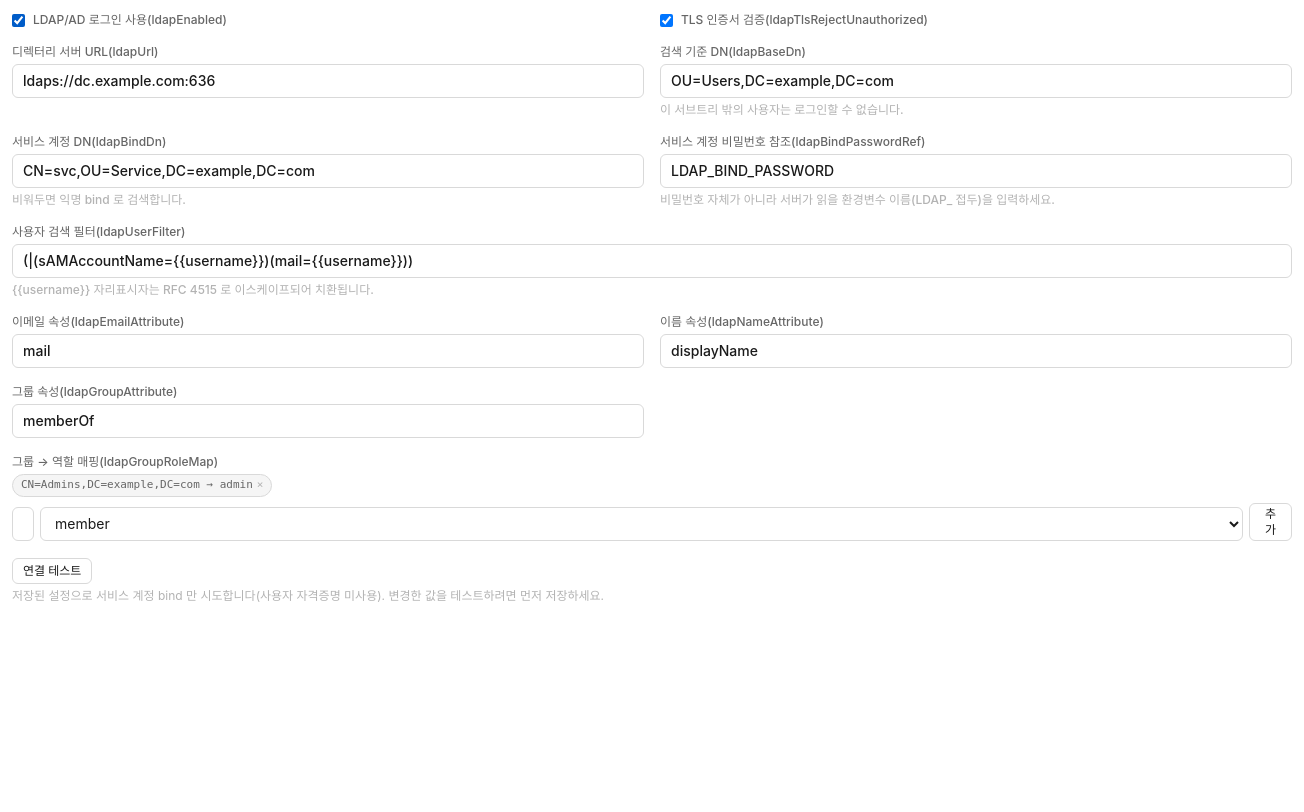
Scenario: IdentityLdapTab › 테스트 진행 중에는 버튼이 비활성화되어 이중 제출되지 않는다
Click the button with test id "admin-settings-ldap-test".
click(52, 570)  # box [12,558,92,584]
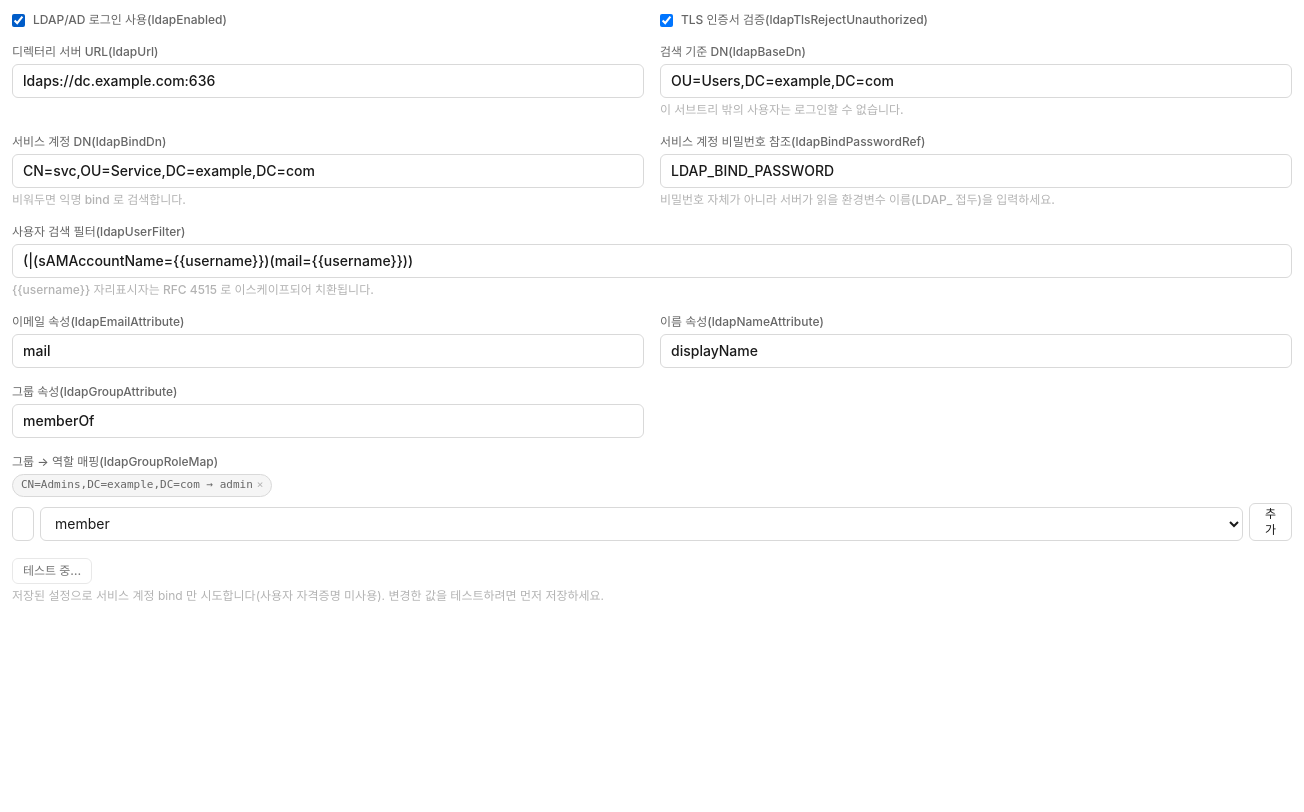
Check: the button with test id "admin-settings-ldap-test" is disabled
Click the button with test id "admin-settings-ldap-test".
click(52, 570)  # box [12,558,92,584]
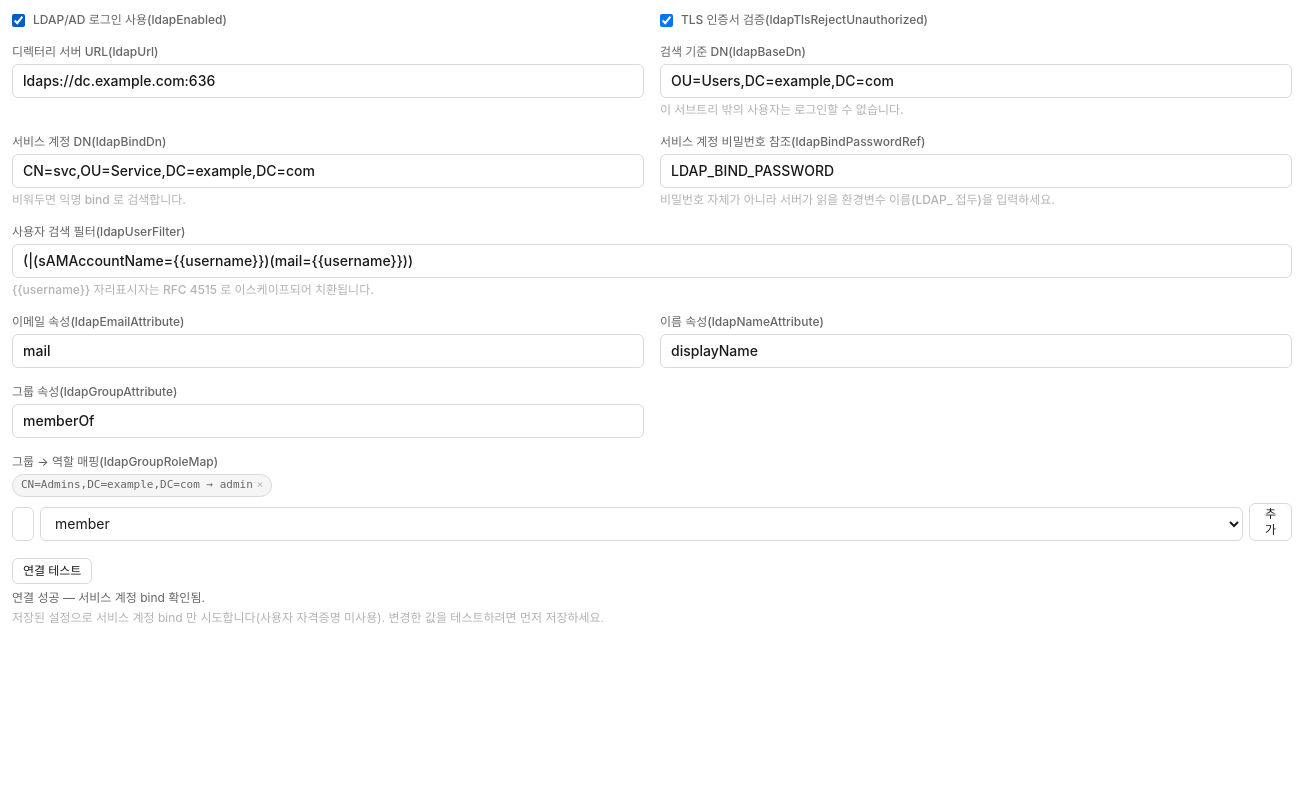
Check: the button with test id "admin-settings-ldap-test" is enabled, box [12,558,92,584]
